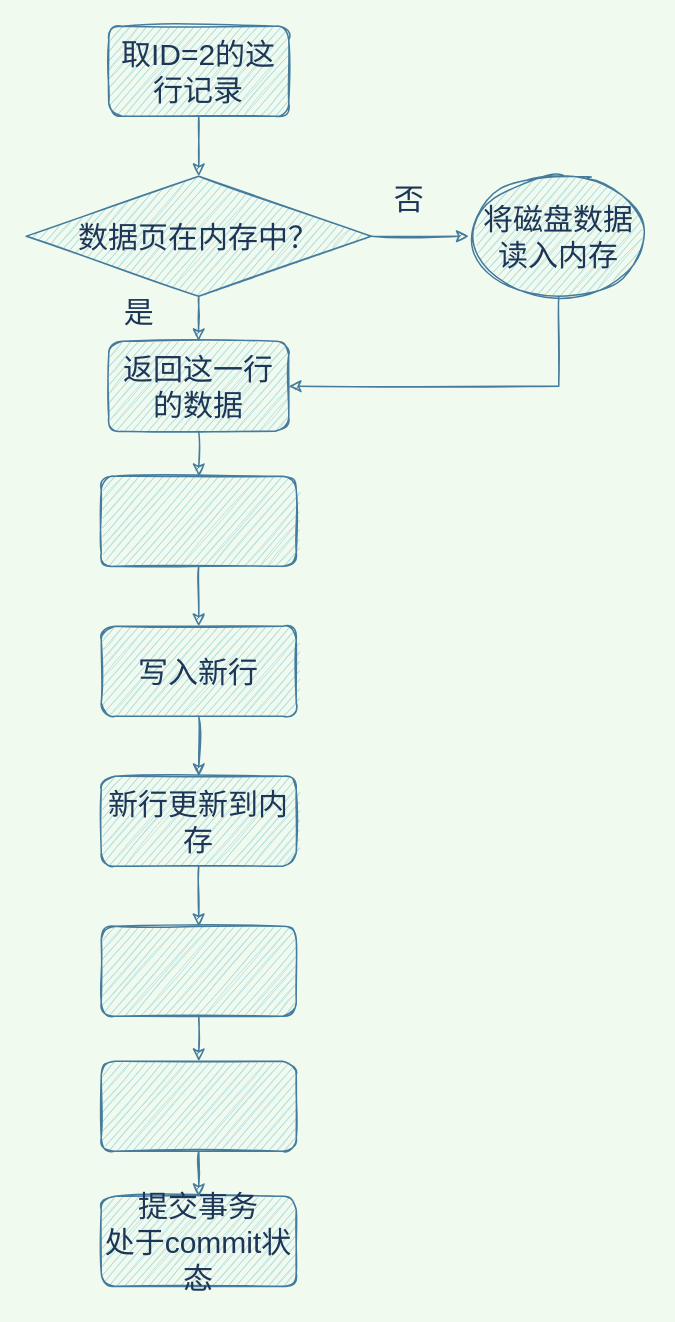
The diagram is 675 pixels wide and 1322 high, and some of its shapes have lost their labels. The shapes that lost their labels are listed below. From the top down, each one's centre as x and y in pixels, then its label:
At [198,520]: "将改行 c 值加1".
At [198,970]: "写redo log 进入prepare阶段".
At [198,1105]: "写binlog".
